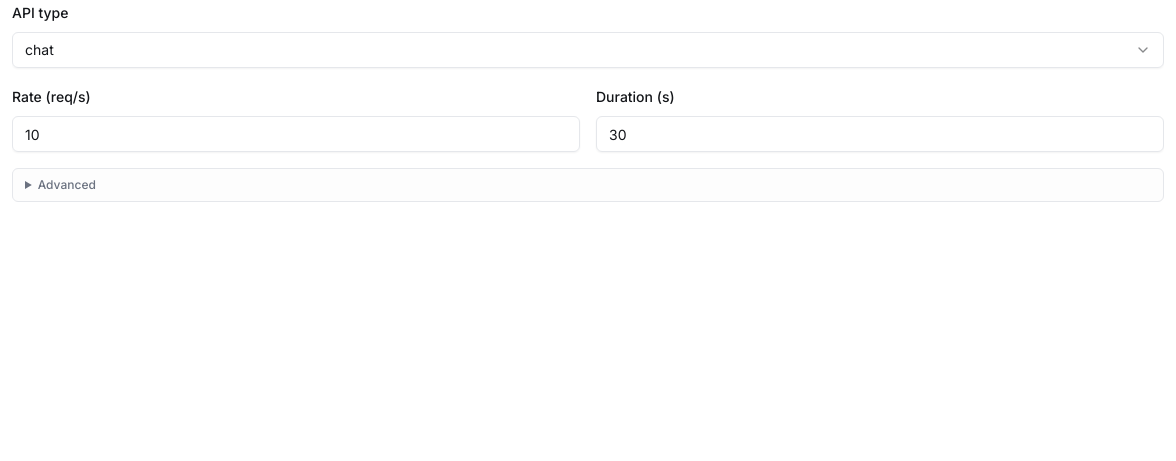
Scenario: VegetaParamsForm › exposes path + body inputs once Advanced is opened
Click the heading "Advanced" at (67, 184), box [38,177,96,192]
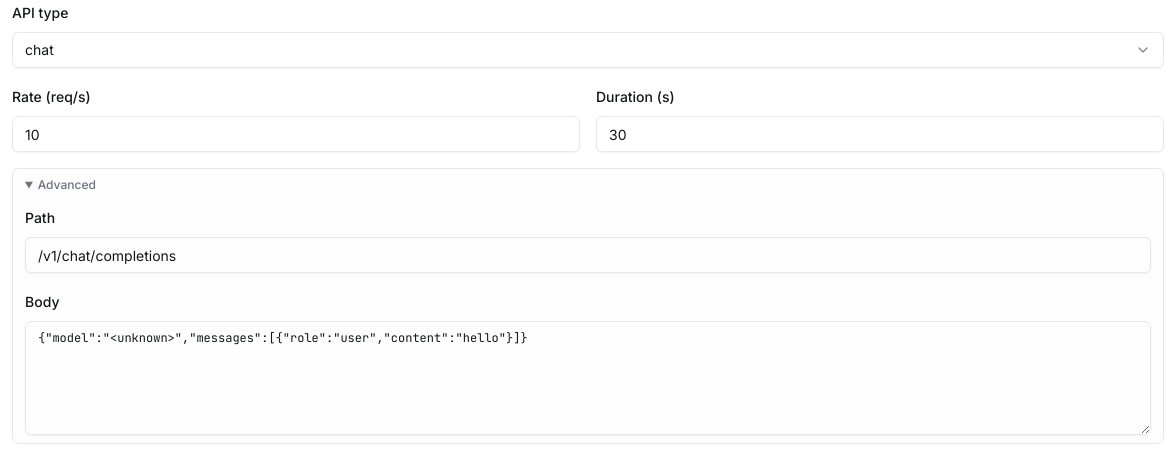
Now the field labelled "Path" is shown, box [25,237,1151,273]
Now the text box labelled "Body" is shown, box [25,321,1151,435]
